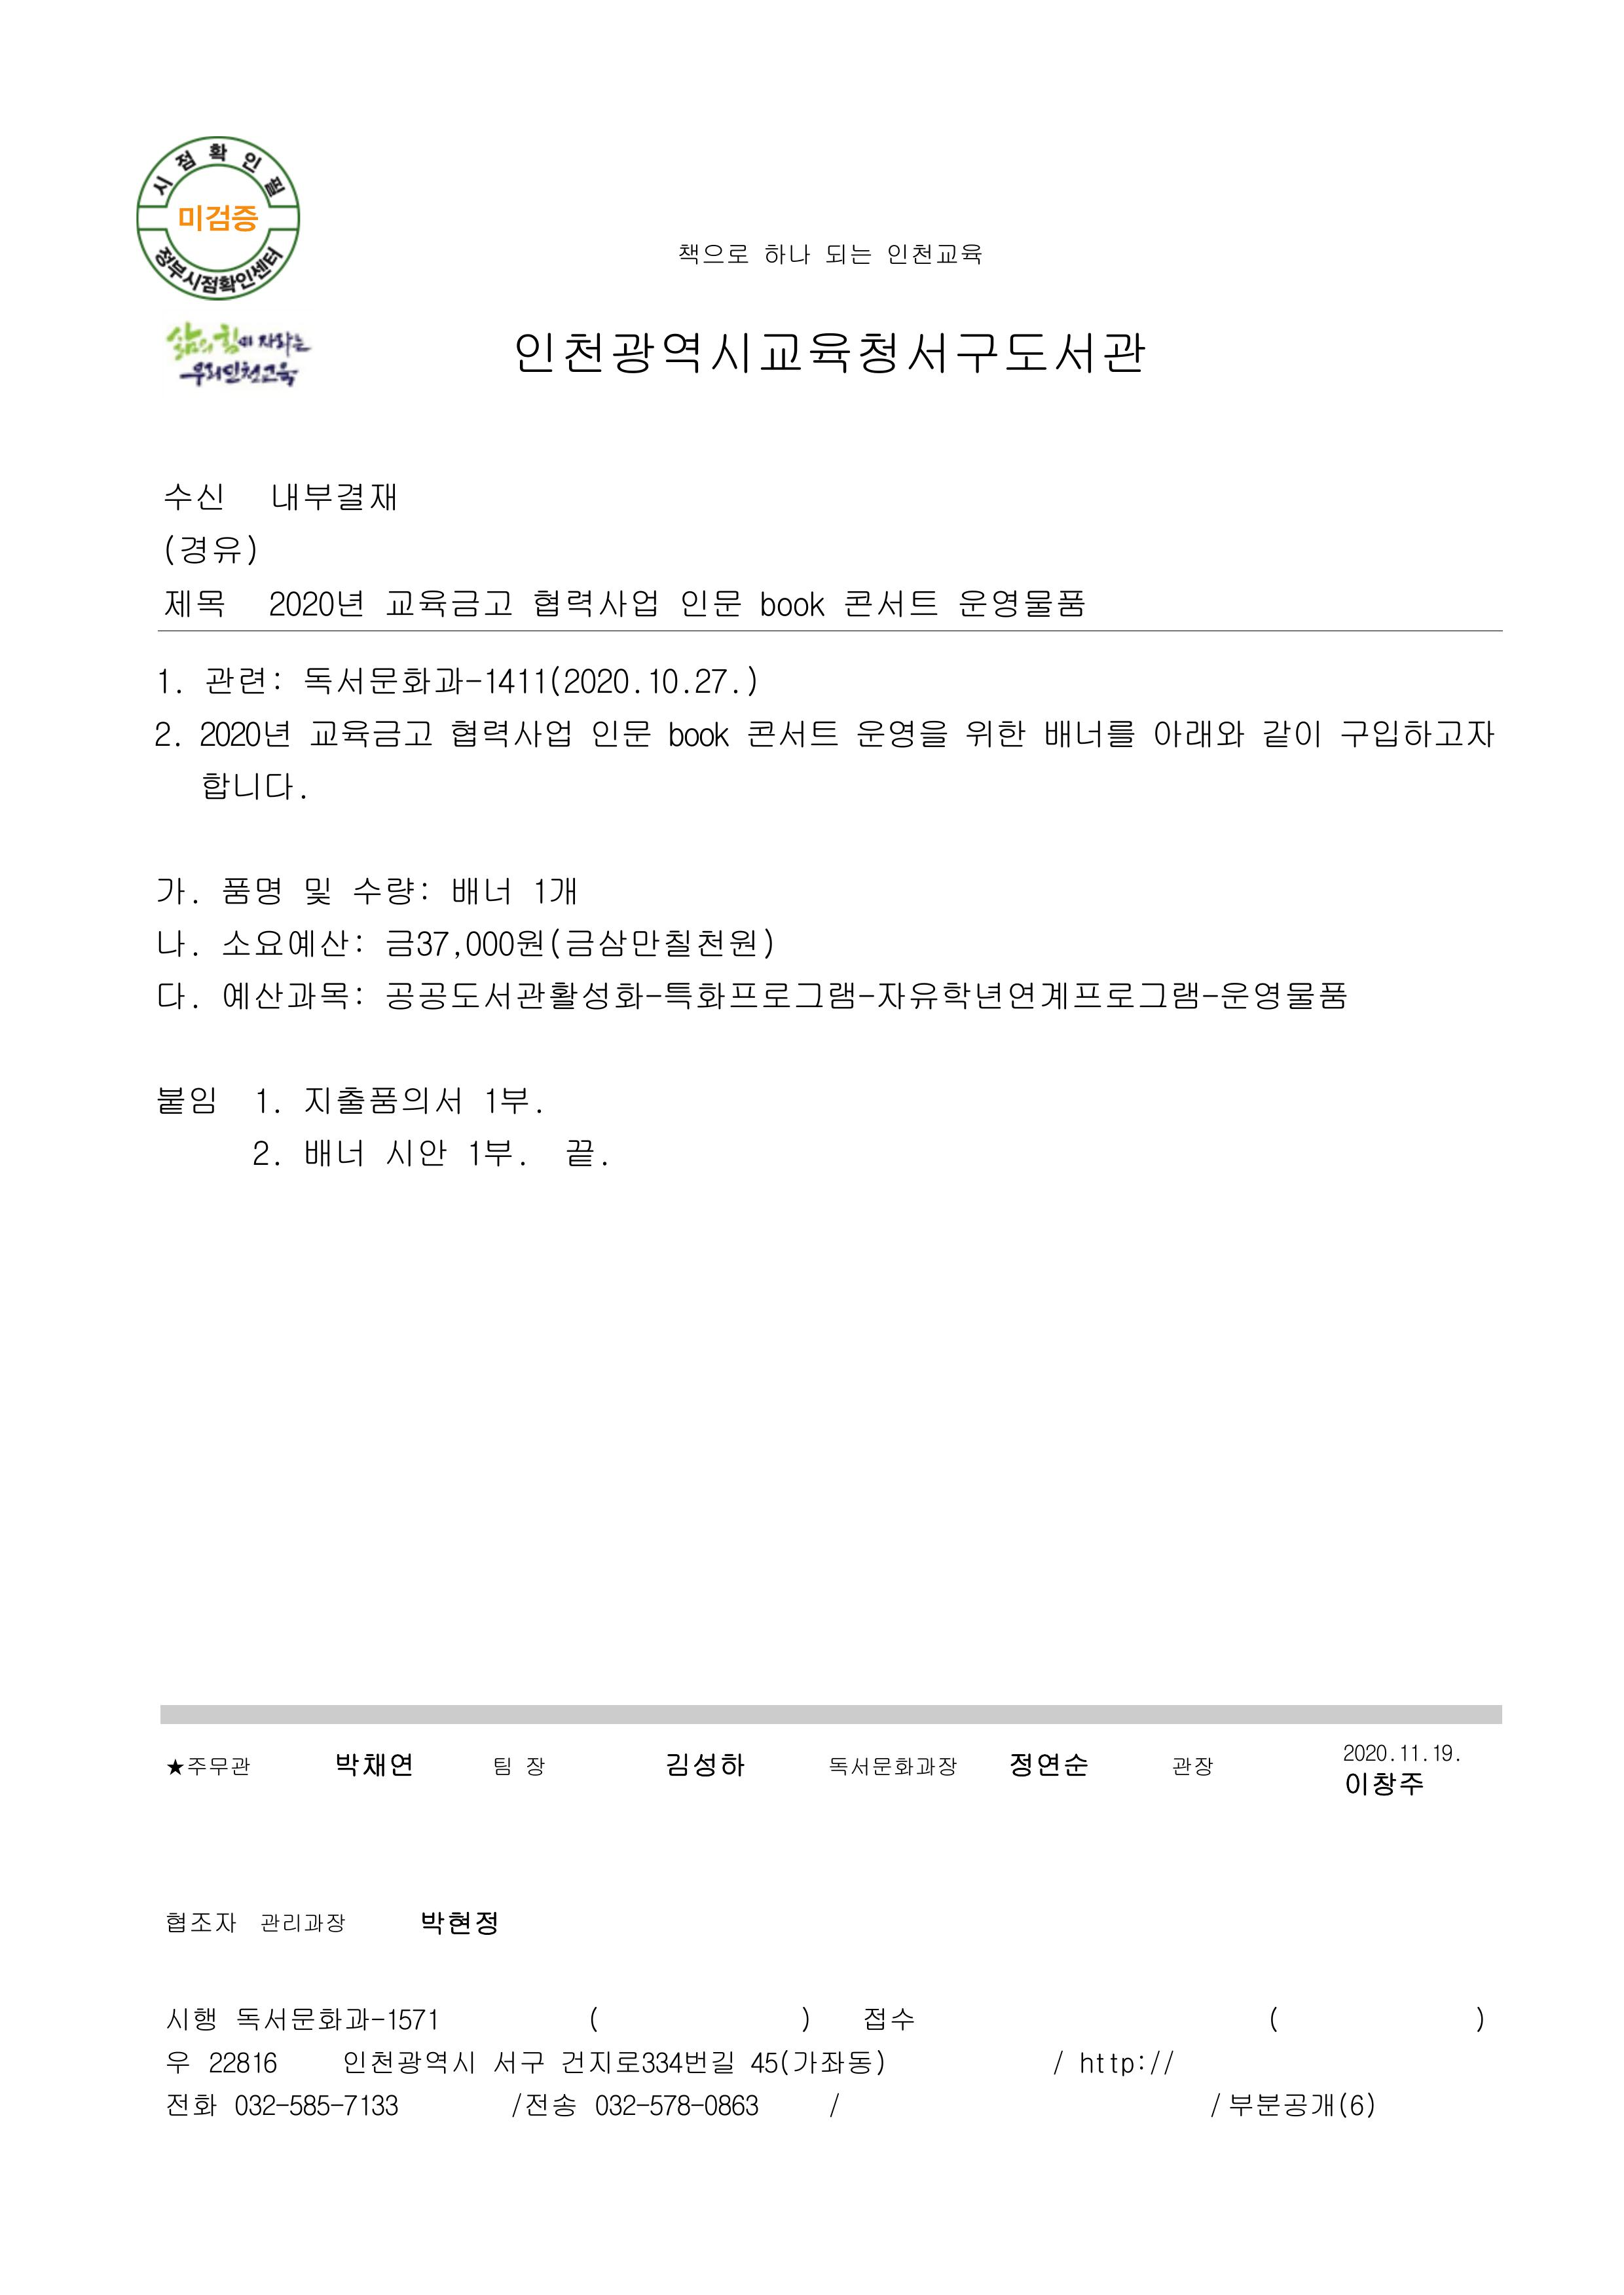t: (383, 975, 1344, 1014), (513, 326, 1147, 380), (301, 663, 635, 699), (462, 925, 774, 961), (1337, 715, 1495, 754), (297, 1082, 462, 1118), (236, 2004, 441, 2033), (555, 2044, 739, 2076), (164, 320, 311, 359), (1226, 2087, 1377, 2123), (219, 925, 365, 961), (746, 2044, 889, 2080), (383, 584, 513, 623), (268, 477, 397, 516), (308, 713, 434, 753), (448, 713, 574, 753), (341, 2044, 477, 2080), (219, 979, 365, 1011), (530, 584, 659, 620), (957, 584, 1082, 620), (645, 663, 760, 699), (1040, 713, 1137, 753), (853, 713, 946, 753), (200, 767, 301, 803), (265, 584, 365, 620), (161, 530, 258, 566), (842, 584, 939, 620), (1151, 717, 1247, 753), (348, 871, 434, 911), (283, 2090, 401, 2119), (661, 1750, 748, 1785), (1003, 1748, 1089, 1784), (197, 717, 290, 749), (746, 717, 839, 749), (175, 200, 258, 236), (183, 362, 301, 387), (204, 663, 283, 699), (1341, 1767, 1424, 1800), (416, 1907, 498, 1939), (383, 925, 452, 961), (961, 713, 1029, 749), (885, 244, 982, 268), (333, 1750, 416, 1778), (161, 584, 226, 620), (154, 1082, 219, 1118), (678, 584, 742, 620), (756, 588, 828, 620), (588, 717, 652, 753), (1259, 717, 1323, 753), (219, 875, 283, 911), (1076, 2045, 1149, 2076), (871, 1753, 961, 1778), (258, 1911, 348, 1936), (383, 1137, 452, 1169), (663, 717, 731, 749), (462, 1137, 530, 1169), (509, 2087, 577, 2119), (448, 875, 513, 907), (480, 1082, 538, 1118), (301, 1137, 365, 1169), (164, 480, 226, 513), (164, 1911, 240, 1936), (161, 2087, 219, 2119), (168, 1757, 251, 1778), (699, 2090, 760, 2119), (491, 2044, 545, 2076), (164, 2004, 219, 2033), (591, 2090, 645, 2119), (154, 875, 200, 907), (530, 875, 577, 907), (229, 2090, 280, 2119), (154, 925, 193, 961), (563, 1137, 602, 1172), (204, 2047, 254, 2076), (157, 982, 204, 1011), (864, 2008, 914, 2033), (764, 244, 814, 268), (824, 244, 875, 268), (649, 2094, 695, 2119), (678, 244, 728, 265), (1341, 1742, 1391, 1764), (301, 875, 333, 907), (1172, 1757, 1215, 1778), (828, 1757, 871, 1778), (1144, 2047, 1176, 2076), (254, 1090, 283, 1115), (251, 1140, 276, 1169), (251, 2051, 280, 2076), (154, 720, 175, 749), (728, 244, 749, 268), (157, 670, 179, 695), (1431, 1742, 1456, 1764), (491, 1757, 516, 1778), (523, 1757, 548, 1778), (168, 2051, 190, 2076)
